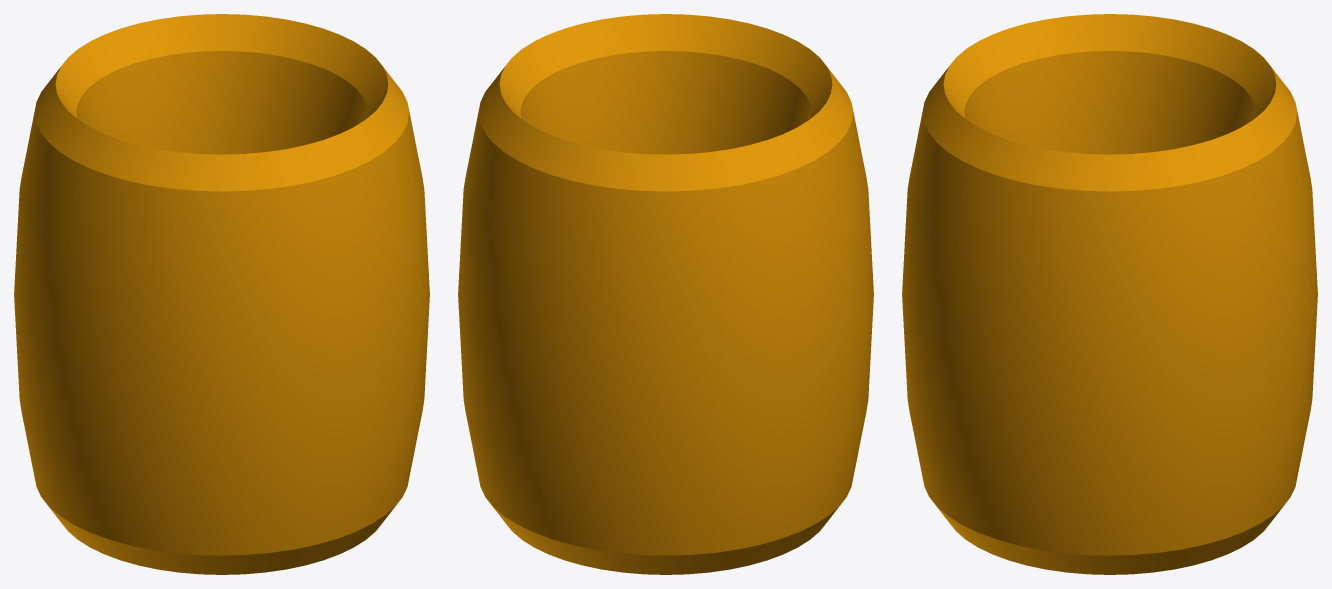
Rendered from ycup.fbx.
3 renders of one model, left to right at view 1: azimuth 30°, elevation 25°; view 2: azimuth 150°, elevation 25°; view 3: azimuth 270°, elevation 25°, orthographic.
Visible parts, largest first — view 1: Torus; view 2: Torus; view 3: Torus.
Part boxes in pixels (<box>): Torus: <box>14,14,429,574</box>; Torus: <box>458,14,873,574</box>; Torus: <box>902,14,1317,574</box>.
Bounding box in the file's own units: 250 × 283 × 250.
